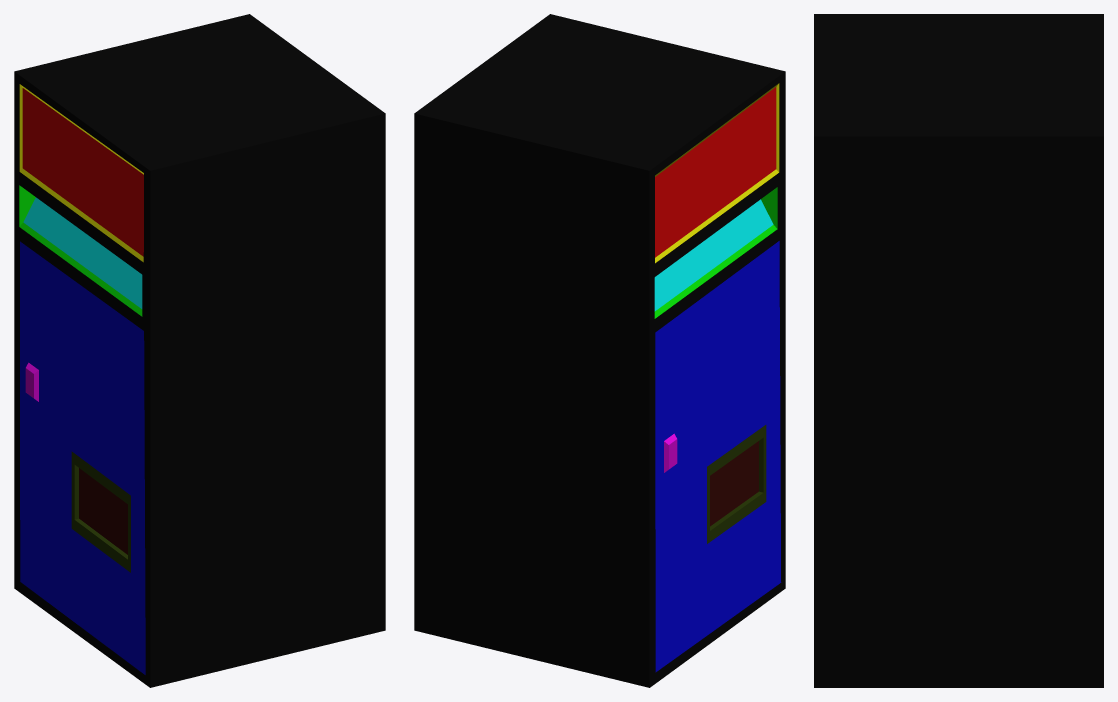
Rendered from sm_vintagedrinkmachine.fbx.
3 renders of one model, left to right at view 1: azimuth 30°, elevation 25°; view 2: azimuth 150°, elevation 25°; view 3: azimuth 270°, elevation 25°, orthographic. The views are drawn at different scales.
Visible parts, largest first — view 1: SM_VintageDrinkMachine; view 2: SM_VintageDrinkMachine; view 3: SM_VintageDrinkMachine.
Part boxes in pixels (x1,y1,x2,y2): SM_VintageDrinkMachine: (14,14,385,687); SM_VintageDrinkMachine: (414,14,785,687); SM_VintageDrinkMachine: (814,14,1103,687).
Bounding box in the file's own units: 203 × 420 × 200.
